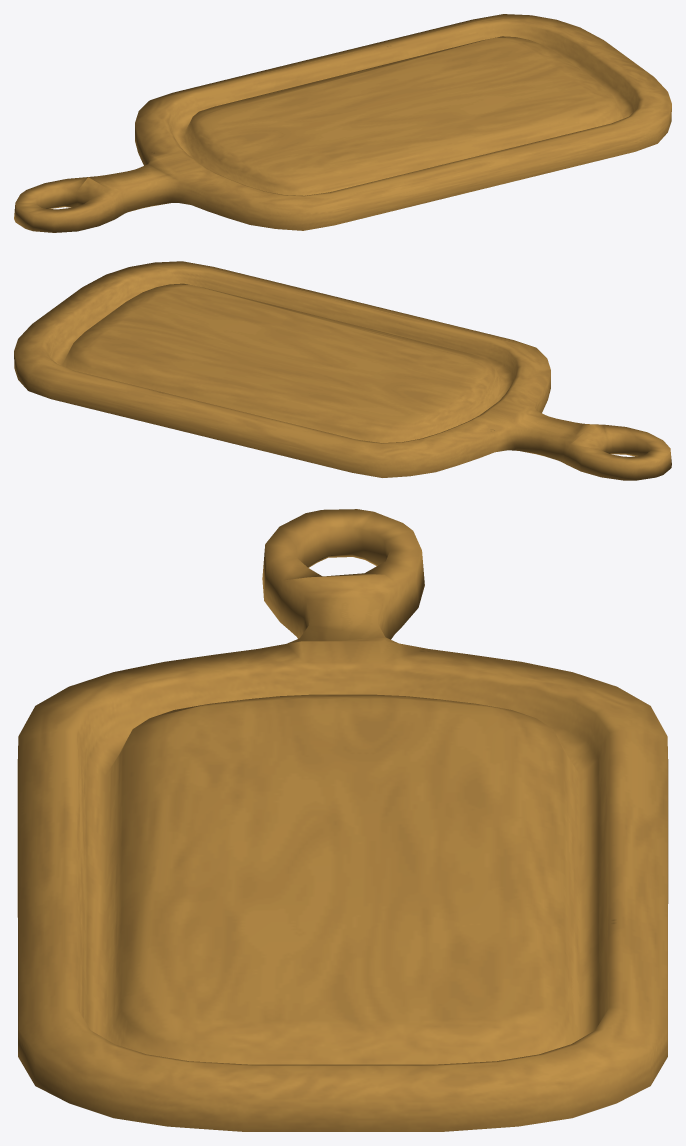
File: cuttingboard.glb
The picture shows the model from 3 angles, top to bottom: view 1: azimuth 30°, elevation 25°; view 2: azimuth 150°, elevation 25°; view 3: azimuth 270°, elevation 25°; orthographic projection. The views are drawn at different scales.
Parts seen in each view (by area): view 1: cuttingboard; view 2: cuttingboard; view 3: cuttingboard.
Boxes of the visible parts, box(x1,y1,x2,y2) form: cuttingboard: box(14, 14, 671, 232); cuttingboard: box(14, 261, 671, 480); cuttingboard: box(17, 509, 668, 1131).
Size of the model in its own units: 1.59 by 0.0799 by 0.7363.
Materials: 1 (1 with a texture image).
